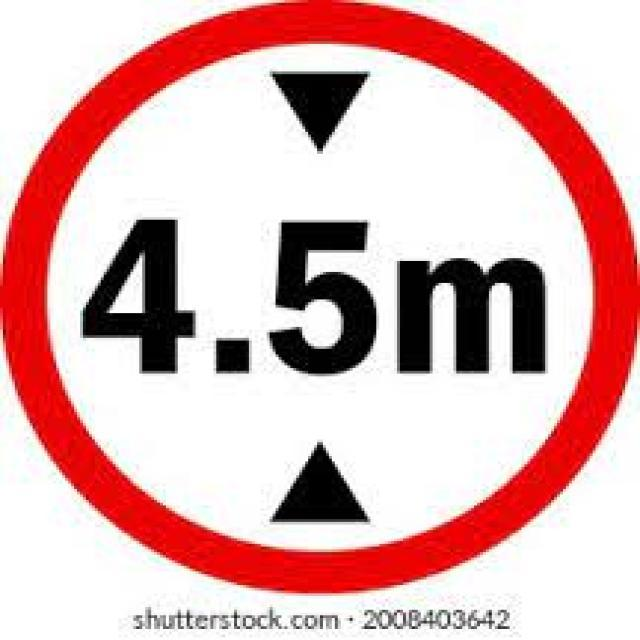height limit: (21, 22, 614, 569)
